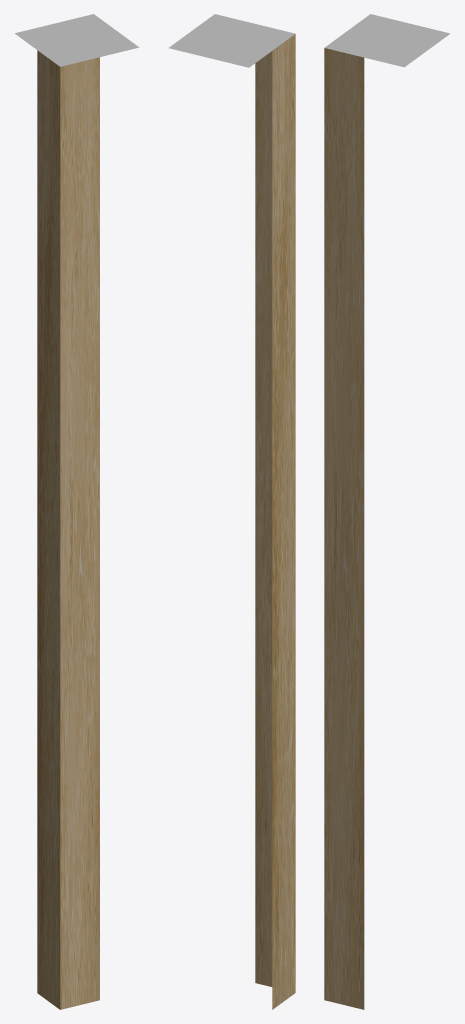
File: W_I__Eckverschluß [Beige]_294.glb
3 views of the same model, side by side, from view 1: azimuth 30°, elevation 25°; view 2: azimuth 150°, elevation 25°; view 3: azimuth 330°, elevation 25° (orthographic).
Visible parts, largest first — view 1: pPlaneShape7, pPlaneShape11; view 2: pPlaneShape7, pPlaneShape11; view 3: pPlaneShape7, pPlaneShape11.
Part boxes in pixels (x1,y1,x2,y2): pPlaneShape7: (37,50,99,1009); pPlaneShape11: (15,14,139,66); pPlaneShape7: (255,34,295,1009); pPlaneShape11: (168,14,295,67); pPlaneShape7: (324,48,364,1009); pPlaneShape11: (324,14,450,67).
Bounding box in the file's own units: 0.0307 × 0.3486 × 0.0307.
2 materials, 1 textured.
